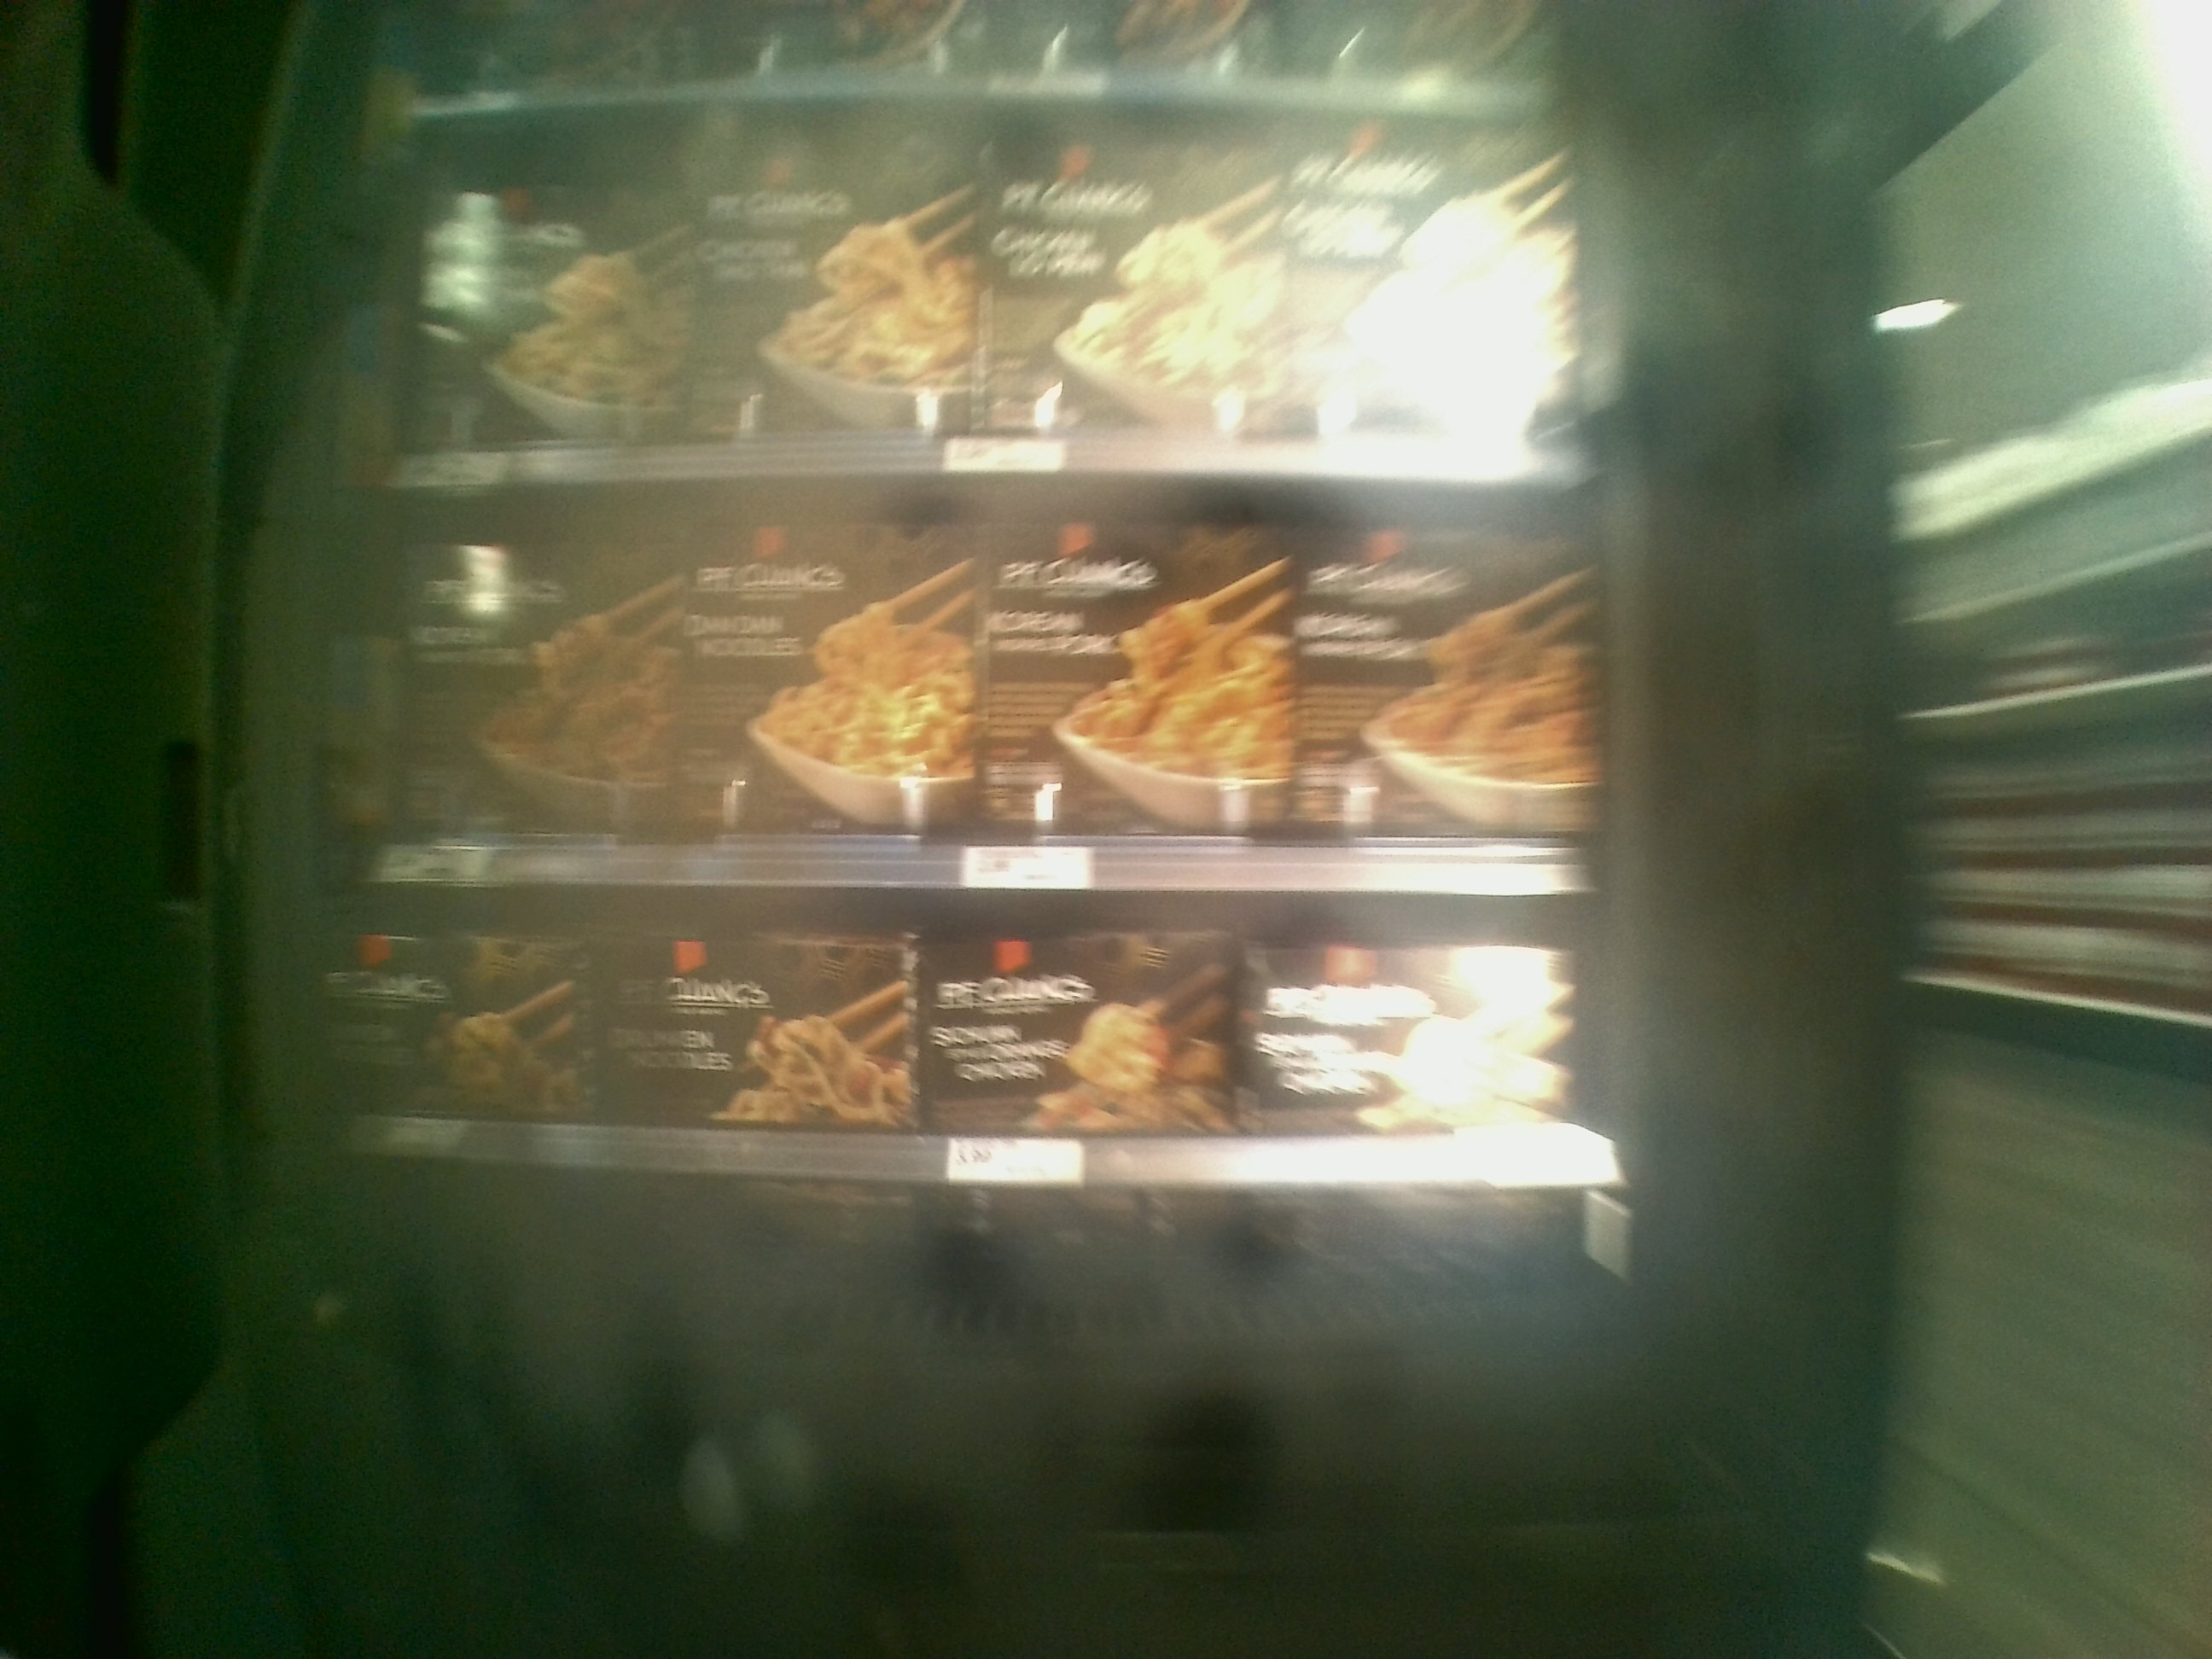shelf: (308, 870, 1629, 1361), (310, 465, 1611, 884)
